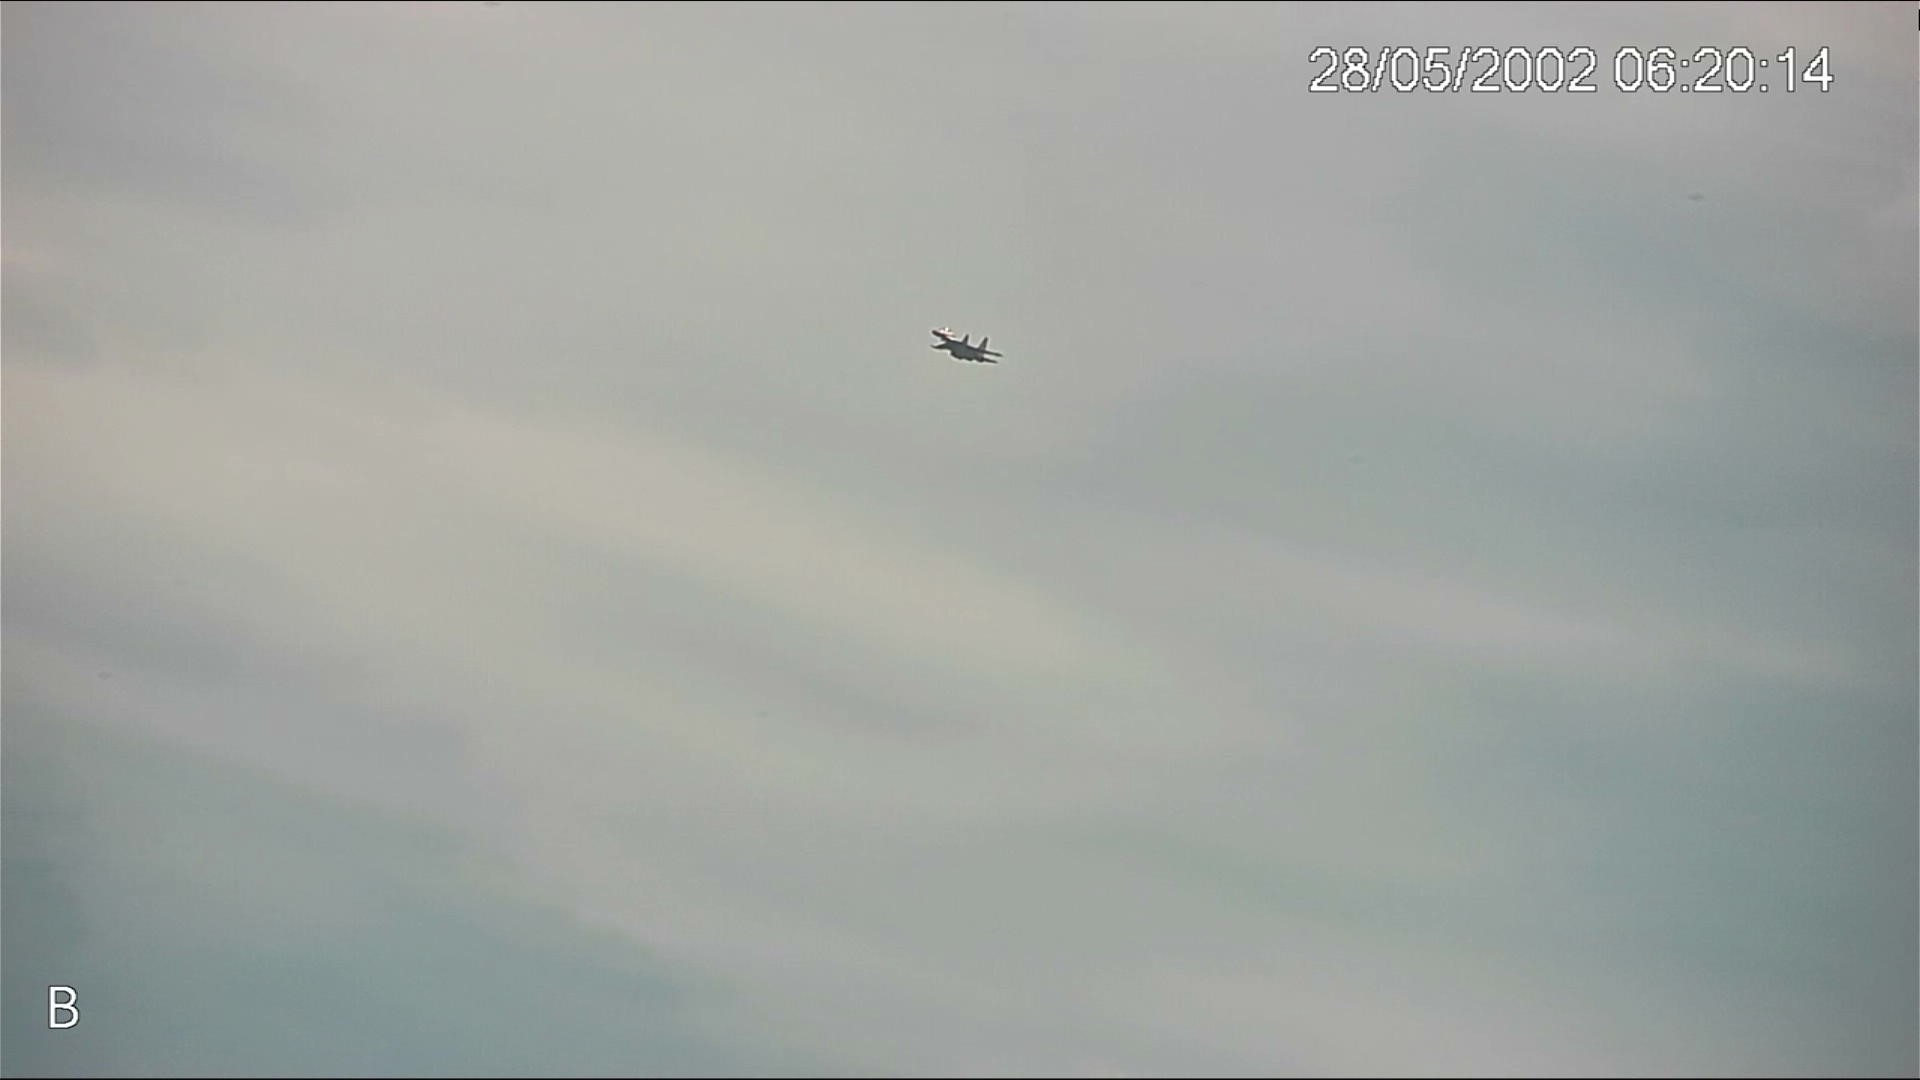SU_30: (915, 320, 1017, 372)
